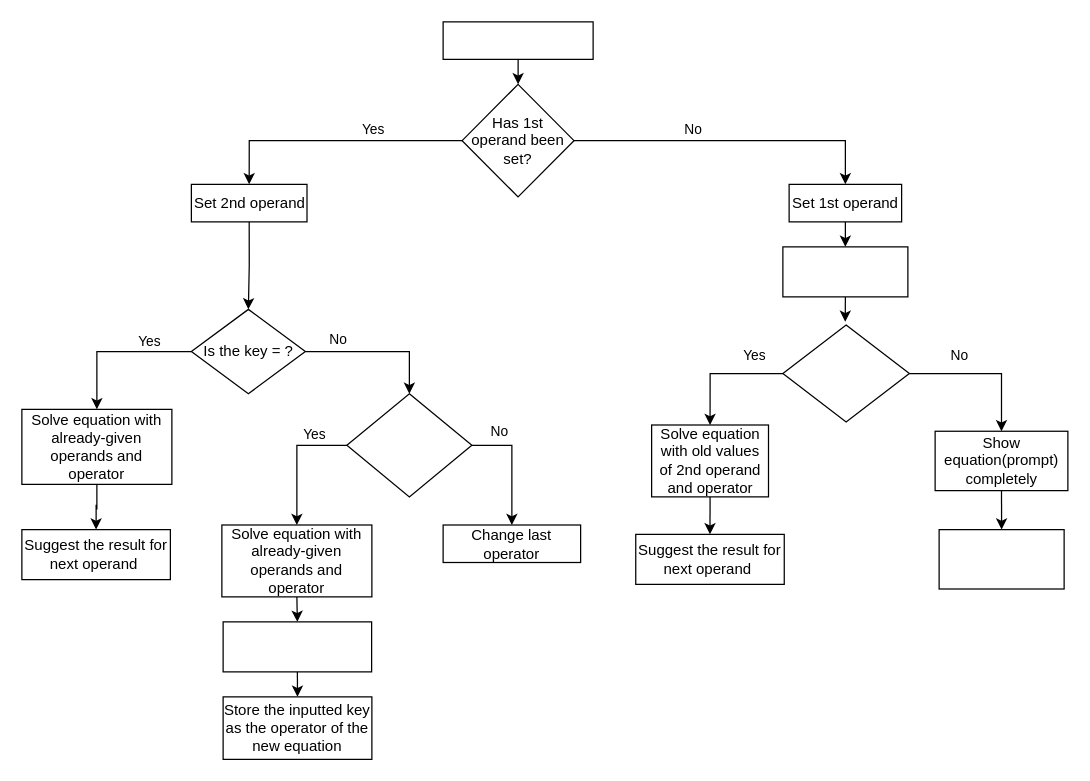
Some shapes in this 1090 by 781 pixel diagram are drawn without their labels. The centre of each missing label's shape, as x and y in pixels:
Is the key = or % or √ ?: point (845, 373)
nonDigitKeyPress(): point (517, 40)
Set operator if key isn't "=": point (845, 271)
Store the result as 1st operand: point (297, 646)
Suggest 1st operand for next operand: point (1001, 558)
User typed a number?: point (409, 444)
